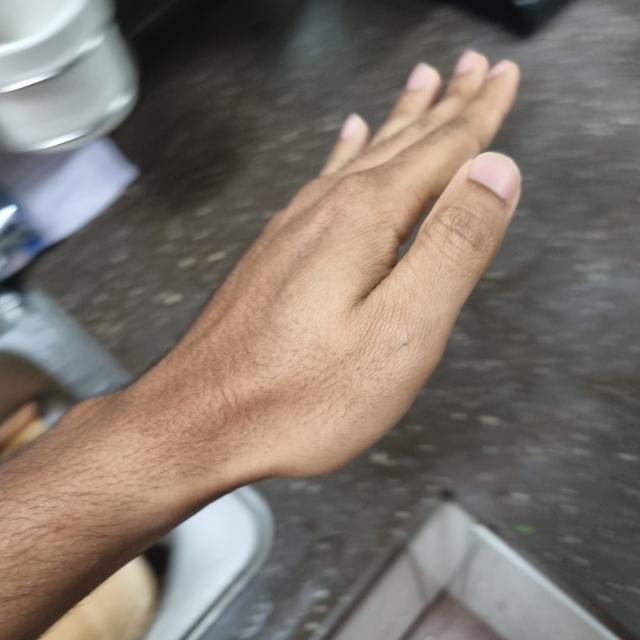Paper: (154, 57, 521, 482)
